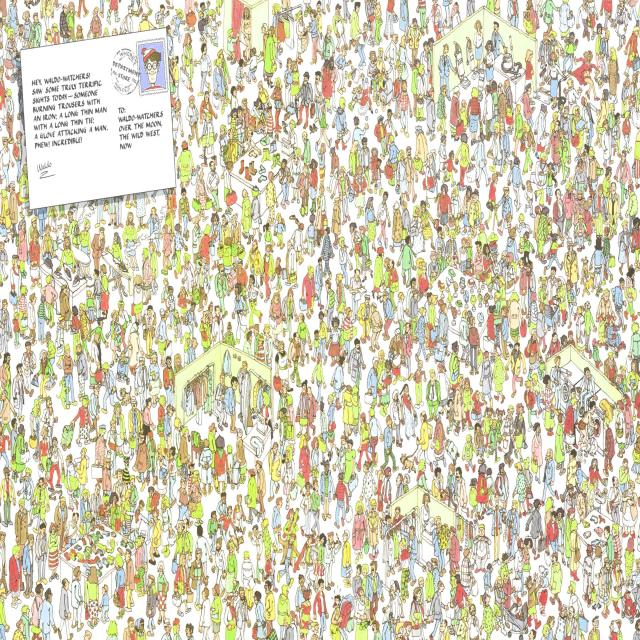waldo: (141, 48, 161, 84), (264, 106, 273, 118)
